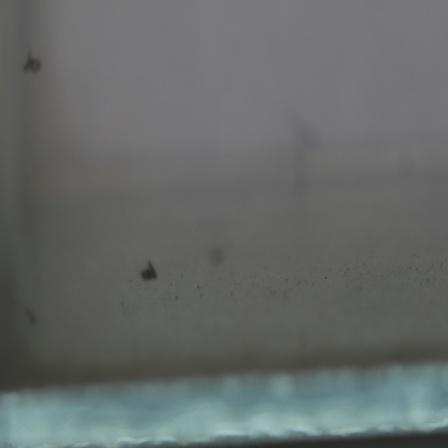Jentik-Nyamuk: (136, 250, 162, 290)
